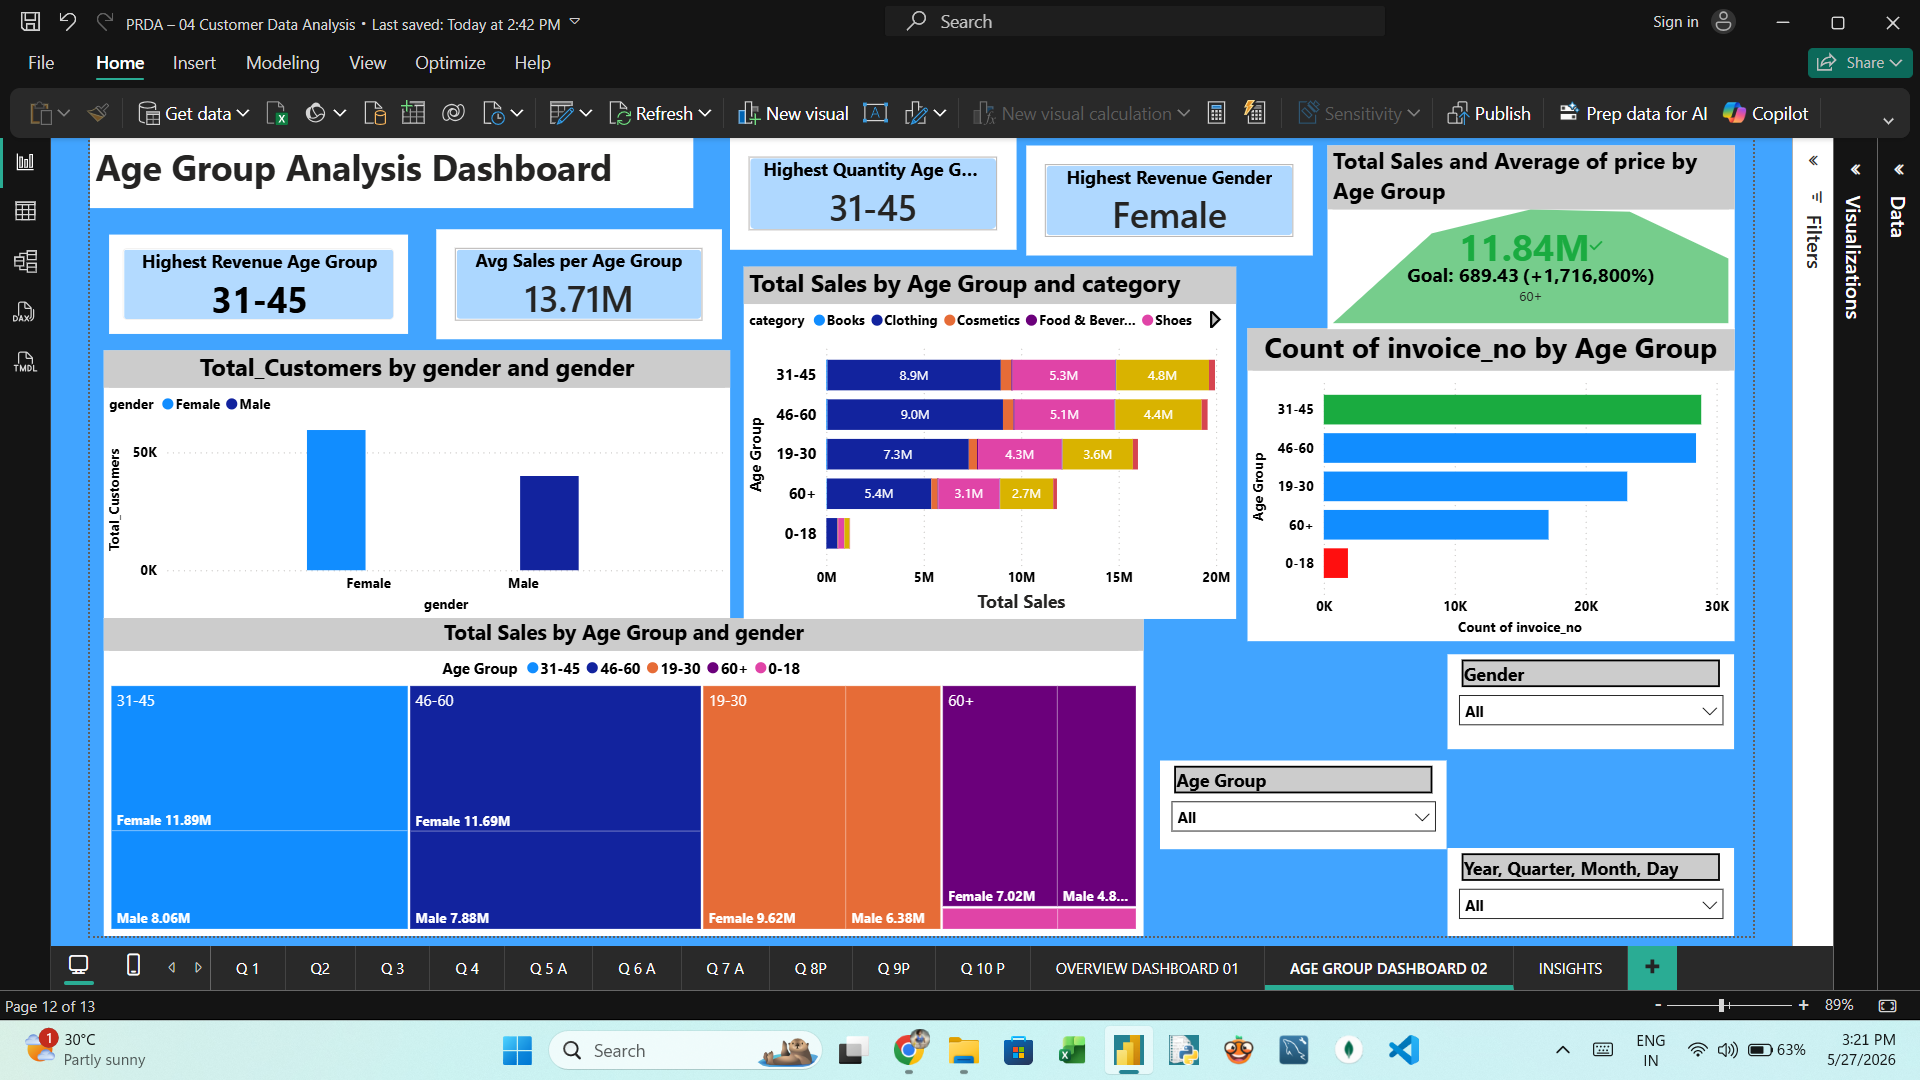

This screenshot's page, from the dashboard's own definition file:
{"tool":"powerbi","page":{"name":"AGE GROUP DASHBOARD 02","canvas":[1500,720],"ordinal":11},"visuals":[{"type":"textbox","box":[0,0,543.6,63.4],"z":0},{"type":"cardVisual","fields":{"Data":["customer_segmentation.Highest Revenue Age Group"]},"box":[12.4,82.1,279.9,99.5],"z":1000},{"type":"cardVisual","fields":{"Data":["customer_segmentation.Highest Quantity Age Group"]},"box":[577.2,0,258.7,100.8],"z":2000},{"type":"cardVisual","fields":{"Data":["customer_segmentation.Avg Sales per Age Group"]},"box":[312.2,82.1,257.5,99.5],"z":3000},{"type":"cardVisual","fields":{"Data":["customer_segmentation.Highest Revenue Gender"]},"box":[844.6,6.2,258.7,99.5],"z":4000},{"type":"clusteredColumnChart","fields":{"Category":["customer_segmentation.gender"],"Series":["customer_segmentation.gender"],"Y":["customer_segmentation.Total_Customers"]},"box":[12.4,191.6,564.8,241.3],"z":5000},{"type":"clusteredBarChart","fields":{"Category":["customer_segmentation.Age Group"],"Y":["Count(customer_segmentation.invoice_no)"]},"box":[1043.7,171.7,439.1,282.4],"z":6000},{"type":"treemap","fields":{"Group":["customer_segmentation.Age Group"],"Values":["customer_segmentation.Total Sales"],"Details":["customer_segmentation.gender"]},"box":[12.4,432.9,937.9,287.4],"z":7000},{"type":"kpi","fields":{"Indicator":["customer_segmentation.Total Sales"],"Goal":["Avg(customer_segmentation.price)"],"TrendLine":["customer_segmentation.Age Group"]},"box":[1115.8,6.2,367,165.4],"z":8000},{"type":"barChart","fields":{"Category":["customer_segmentation.Age Group"],"Y":["customer_segmentation.Total Sales"],"Series":["customer_segmentation.category"]},"box":[589.6,115.7,444.1,317.2],"z":9000},{"type":"slicer","fields":{"Values":["customer_segmentation.Age Group"]},"box":[965.3,561,258.7,79.6],"z":10000},{"type":"slicer","fields":{"Values":["customer_segmentation.gender"]},"box":[1224.1,465.2,258.7,85.8],"z":11000},{"type":"slicer","fields":{"Values":["customer_segmentation.invoice_date.Variation.Date Hierarchy.Year","customer_segmentation.invoice_date.Variation.Date Hierarchy.Quarter","customer_segmentation.invoice_date.Variation.Date Hierarchy.Month","customer_segmentation.invoice_date.Variation.Date Hierarchy.Day"]},"box":[1224.1,640.6,258.7,79.6],"z":12000}]}

Visuals, with their boxes on the page's 1500x720 design canvas (x1, y1, x2, y2). These are canvas units, not pixel positions in the 1920x1080 screenshot, which may show the page scaled, cropped or inside an application window:
textbox: [0,0,544,63]
cardVisual - customer_segmentation.Highest Revenue Age Group: [12,82,292,182]
cardVisual - customer_segmentation.Highest Quantity Age Group: [577,0,836,101]
cardVisual - customer_segmentation.Avg Sales per Age Group: [312,82,570,182]
cardVisual - customer_segmentation.Highest Revenue Gender: [845,6,1103,106]
clusteredColumnChart - customer_segmentation.gender x customer_segmentation.gender: [12,192,577,433]
clusteredBarChart - customer_segmentation.Age Group x Count(customer_segmentation.invoice_no): [1044,172,1483,454]
treemap - customer_segmentation.Age Group x customer_segmentation.Total Sales: [12,433,950,720]
kpi - customer_segmentation.Total Sales x Avg(customer_segmentation.price): [1116,6,1483,172]
barChart - customer_segmentation.Age Group x customer_segmentation.Total Sales: [590,116,1034,433]
slicer - customer_segmentation.Age Group: [965,561,1224,641]
slicer - customer_segmentation.gender: [1224,465,1483,551]
slicer - customer_segmentation.invoice_date.Variation.Date Hierarchy.Year x customer_segmentation.invoice_date.Variation.Date Hierarchy.Quarter: [1224,641,1483,720]
